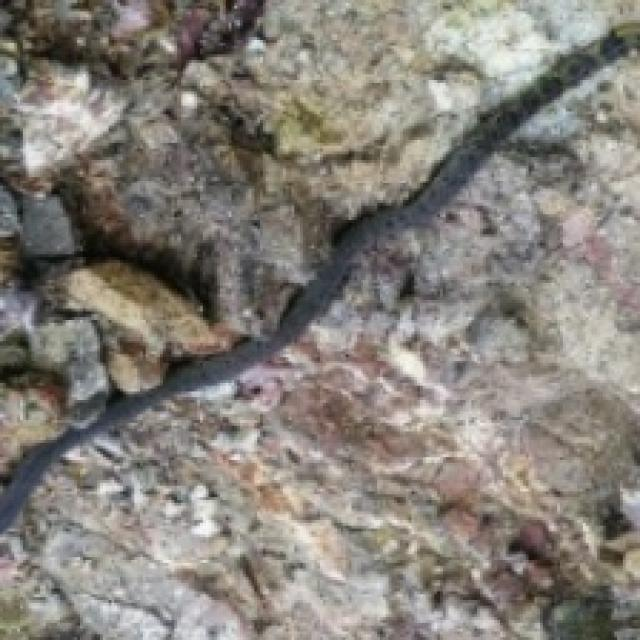luzon dwarf snake: (0, 51, 637, 637), (0, 0, 637, 529), (0, 0, 637, 331)
